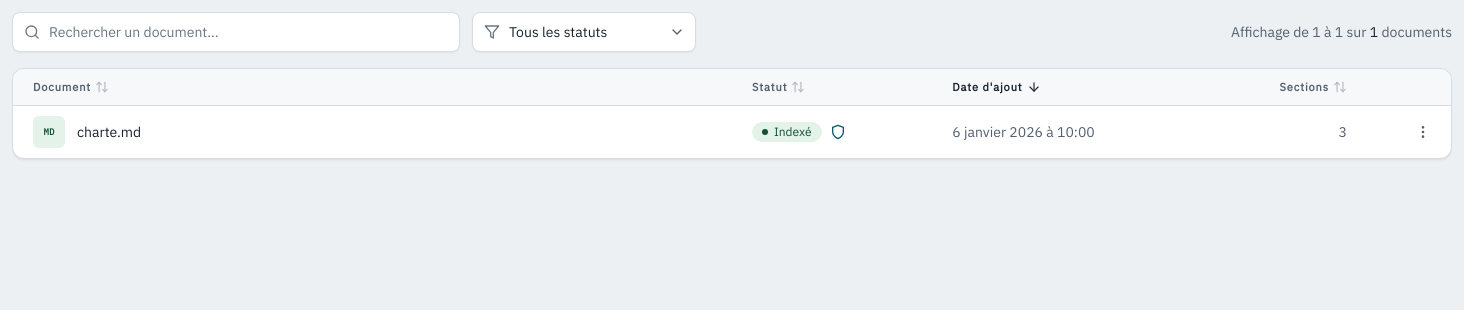
Test: DocumentsList › forbids deleting a preserved document
Expected: the text "charte.md" is shown, [77,122,141,142]
Click the button named "Actions pour charte.md".
click(1423, 132)  # box [1407,116,1439,148]
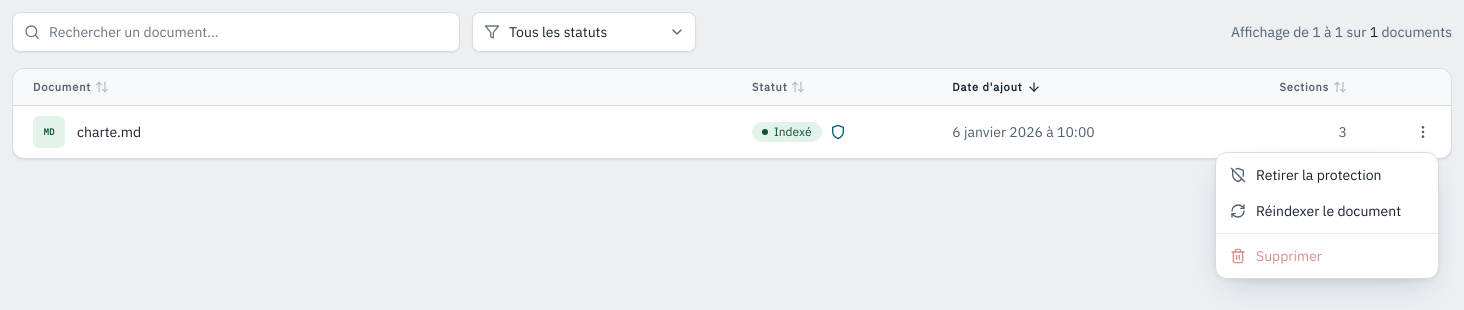
Now the menu item "Supprimer" is disabled, box [1216,238,1438,274]
